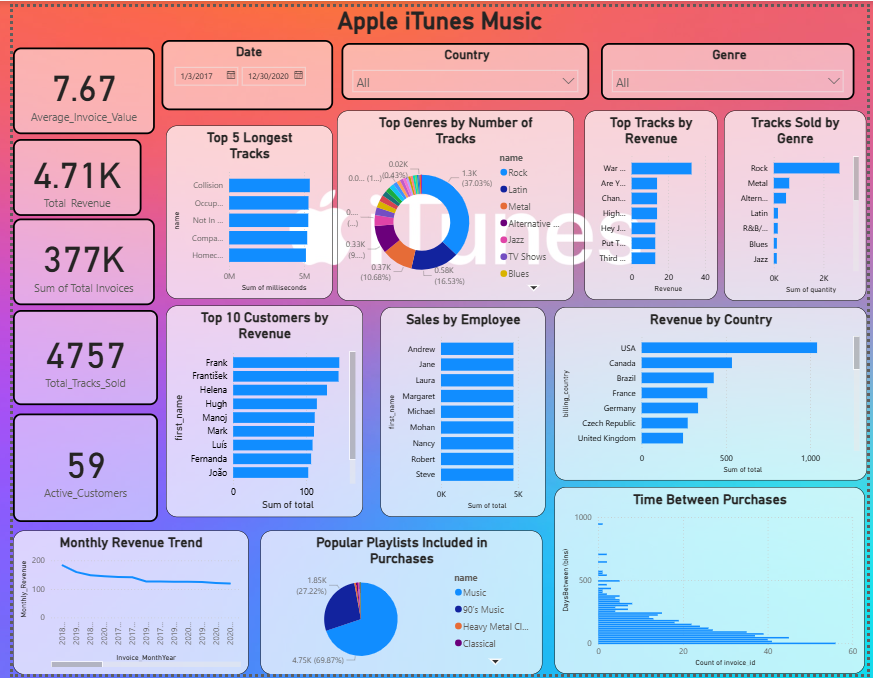

The dashboard page shown, as its layout file describes it:
{"tool":"powerbi","page":{"name":"Page 1","canvas":[1280,1000],"ordinal":0},"visuals":[{"type":"card","fields":{"Values":["public invoice.Total_Revenue"]},"box":[0,197.5,192.5,115],"z":0},{"type":"card","fields":{"Values":["invoice.Average_Invoice_Value"]},"box":[0,60,212.5,130],"z":1000},{"type":"card","fields":{"Values":["Sum(invoice.Total Invoices)"]},"box":[0,317.5,212.5,130],"z":2000},{"type":"lineChart","title":"Monthly Revenue Trend","fields":{"Y":["invoice.Monthly_Revenue"],"Category":["invoice.Invoice_MonthYear"]},"box":[0,784.9,353.1,215.9],"z":3000},{"type":"barChart","title":"Top 10 Customers by Revenue","fields":{"Category":["public customer.first_name"],"Y":["Sum(invoice.total)"]},"box":[230,447.5,295,317.5],"z":4000},{"type":"barChart","title":"Revenue by Country","fields":{"Category":["invoice.billing_country"],"Y":["Sum(invoice.total)"]},"box":[811.7,450,468.3,260],"z":5000},{"type":"barChart","title":"Tracks Sold by Genre","fields":{"Category":["public genre.name"],"Y":["Sum(public invoice_line.quantity)"]},"box":[1067,155,213,285],"z":6000},{"type":"barChart","title":"Top Tracks by Revenue","fields":{"Category":["public track.name"],"Y":["invoice_line.Revenue"]},"box":[857,155,199,284],"z":7000},{"type":"barChart","title":"Sales by Employee","fields":{"Category":["public employee.first_name"],"Y":["Sum(invoice.total)"]},"box":[551,449.8,247.4,314.8],"z":8000},{"type":"donutChart","title":"Top Genres by Number of Tracks","fields":{"Y":["CountNonNull(public track.track_id)"],"Category":["public genre.name"]},"box":[485,155,355,285],"z":9000},{"type":"barChart","title":"Top 5 Longest Tracks","fields":{"Category":["public track.name"],"Y":["Sum(public track.milliseconds)"]},"box":[230,177.5,250,260],"z":12000},{"type":"card","fields":{"Values":["invoice.Total_Tracks_Sold"]},"box":[0,455,217.5,142.5],"z":13000},{"type":"card","fields":{"Values":["invoice.Active_Customers"]},"box":[0,610,217.5,162.5],"z":14000},{"type":"barChart","title":"Time Between Purchases","fields":{"Y":["CountNonNull(invoice.invoice_id)"],"Category":["invoice.DaysBetween (bins)"]},"box":[811.7,720,465,280],"z":15000},{"type":"pieChart","title":"Popular Playlists Included in Purchases","fields":{"Category":["public playlist.name"],"Y":["playlist_track.Tracks_Purchased_From_Playlist"]},"box":[371.1,784.9,422.8,215.9],"z":16000},{"type":"textbox","title":"Apple iTunes Music","box":[2.2,0,1275.1,54],"z":17000},{"type":"slicer","title":"Date","fields":{"Values":["invoice.invoice_date"]},"box":[222.5,50,257.5,105],"z":18000},{"type":"slicer","title":"Country","fields":{"Values":["customer.country"]},"box":[492.5,54,371.1,85.5],"z":19000},{"type":"slicer","title":"Genre","fields":{"Values":["public genre.name"]},"box":[881.6,54,380.1,85.5],"z":20000}]}

Visuals, with their boxes in screenshot pixels (x1, y1, x2, y2), scaled from the page's 1280x1000 canvas onto the 873x678 screenshot:
card - public invoice.Total_Revenue: 0/134/131/212
card - invoice.Average_Invoice_Value: 0/41/145/129
card - Sum(invoice.Total Invoices): 0/215/145/303
"Monthly Revenue Trend" lineChart: 0/532/241/677
"Top 10 Customers by Revenue" barChart: 157/303/358/519
"Revenue by Country" barChart: 554/305/872/481
"Tracks Sold by Genre" barChart: 728/105/872/298
"Top Tracks by Revenue" barChart: 585/105/720/298
"Sales by Employee" barChart: 376/305/545/518
"Top Genres by Number of Tracks" donutChart: 331/105/573/298
"Top 5 Longest Tracks" barChart: 157/120/327/297
card - invoice.Total_Tracks_Sold: 0/308/148/405
card - invoice.Active_Customers: 0/414/148/524
"Time Between Purchases" barChart: 554/488/871/677
"Popular Playlists Included in Purchases" pieChart: 253/532/541/677
"Apple iTunes Music" textbox: 2/0/871/37
"Date" slicer: 152/34/327/105
"Country" slicer: 336/37/589/95
"Genre" slicer: 601/37/861/95
